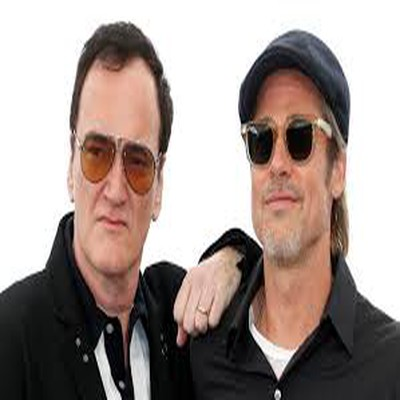eywear: (221, 97, 349, 184), (72, 118, 168, 206)
